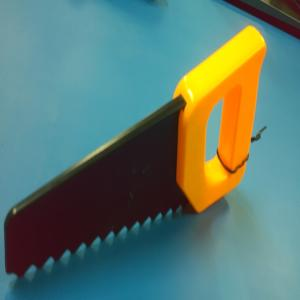serrote: (3, 24, 267, 279)
